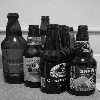beer: (3, 9, 24, 84)
